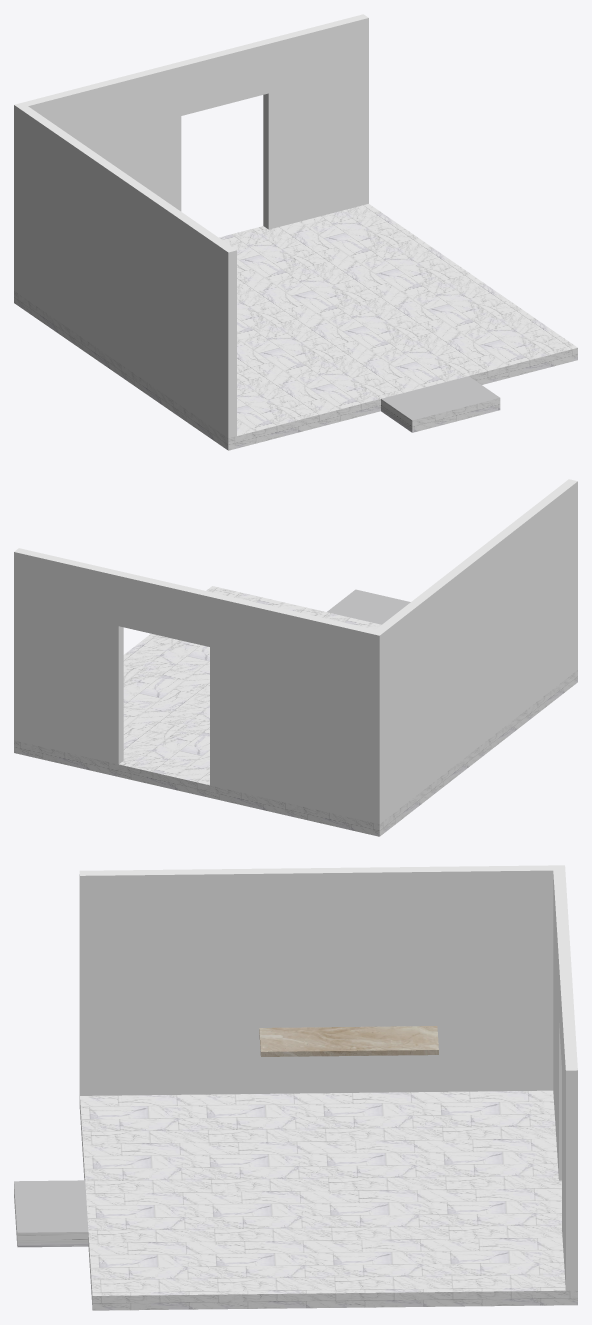
The picture shows the model from 3 angles, top to bottom: view 1: azimuth 30°, elevation 25°; view 2: azimuth 150°, elevation 25°; view 3: azimuth 270°, elevation 25°; orthographic projection. The views are drawn at different scales.
Visible parts, largest first — view 1: Box, Box002, Box003; view 2: Box003, Box002, Box; view 3: Box, Box002, Box003, Box004.
Part boxes in pixels (x1=…): Box: x1=14, y1=204, x2=577, y2=450; Box002: x1=14, y1=102, x2=236, y2=438; Box003: x1=23, y1=14, x2=368, y2=229; Box003: x1=14, y1=548, x2=374, y2=821; Box002: x1=370, y1=479, x2=577, y2=824; Box: x1=14, y1=586, x2=577, y2=836; Box: x1=14, y1=1090, x2=577, y2=1310; Box002: x1=79, y1=865, x2=565, y2=1095; Box003: x1=553, y1=870, x2=577, y2=1290; Box004: x1=259, y1=1026, x2=438, y2=1056.
Bounding box in the file's own units: 6.16 × 3.2 × 6.97.
3 materials, 2 textured.
